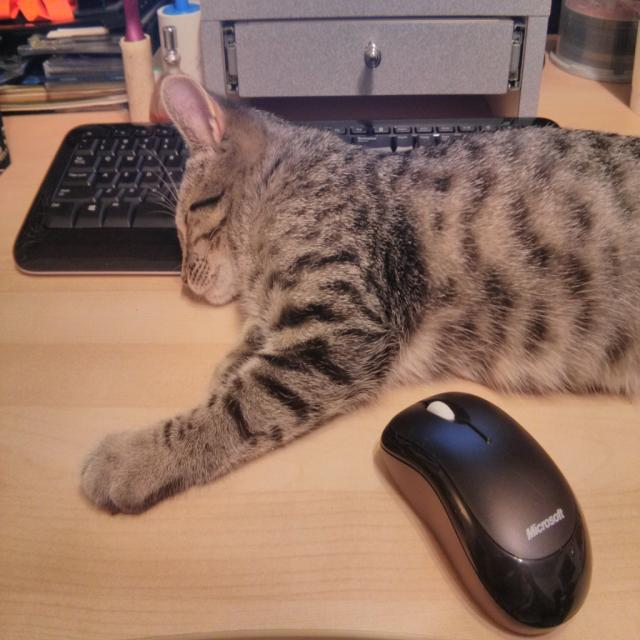Computer-mouse: (378, 390, 588, 631)
